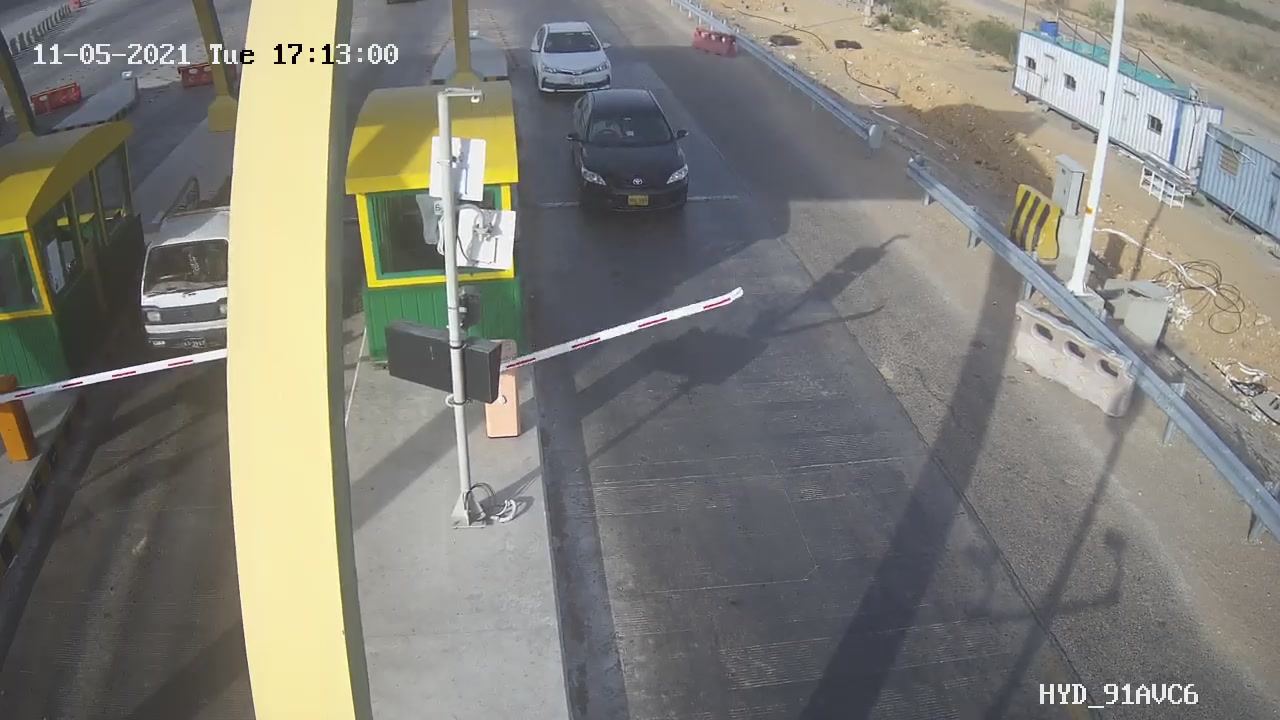F1: (556, 77, 708, 229), (516, 11, 631, 112)
